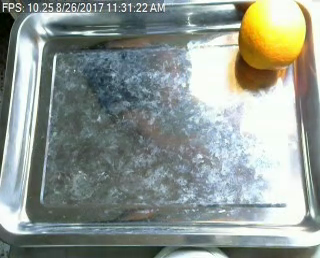Orange: (238, 1, 306, 69)
